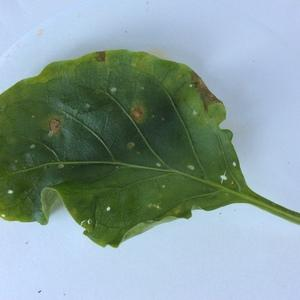Bell_pepper leaf: (1, 43, 254, 245)
